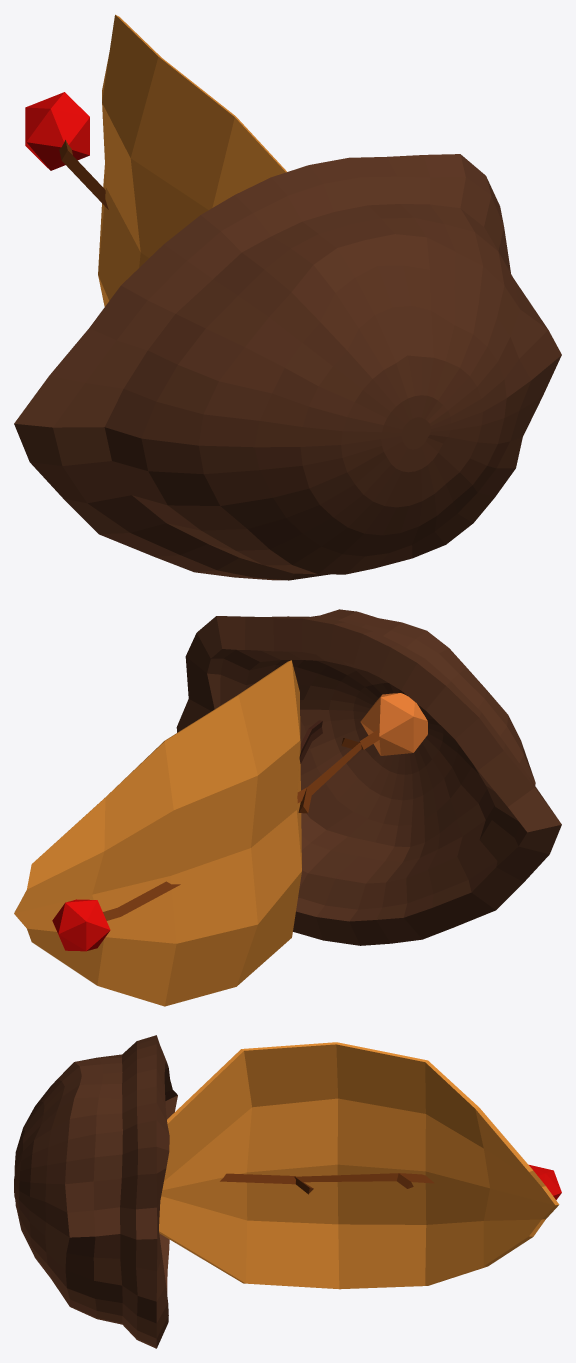
The model's file is walnut.fbx.
3 views of the same model, one above another, from view 1: azimuth 30°, elevation 25°; view 2: azimuth 150°, elevation 25°; view 3: azimuth 270°, elevation 25° (orthographic). The views are drawn at different scales.
Visible parts, largest first — view 1: Walnut, Leaf, Berry, Twig; view 2: Walnut, Leaf, Gum, Berry, Twig; view 3: Leaf, Walnut, Twig, Berry.
Boxes of the visible parts, bbox=[...] form: Walnut: bbox=[14, 154, 561, 580]; Leaf: bbox=[98, 14, 286, 306]; Berry: bbox=[25, 92, 89, 170]; Twig: bbox=[59, 140, 108, 209]; Walnut: bbox=[176, 609, 561, 945]; Leaf: bbox=[14, 660, 322, 1006]; Gum: bbox=[360, 693, 427, 755]; Berry: bbox=[52, 899, 110, 951]; Twig: bbox=[103, 729, 380, 920]; Leaf: bbox=[159, 1042, 559, 1289]; Walnut: bbox=[14, 1035, 177, 1348]; Twig: bbox=[220, 1173, 434, 1194]; Berry: bbox=[529, 1165, 561, 1199].
Bounding box in the file's own units: 0.0423 × 0.0343 × 0.0611.
